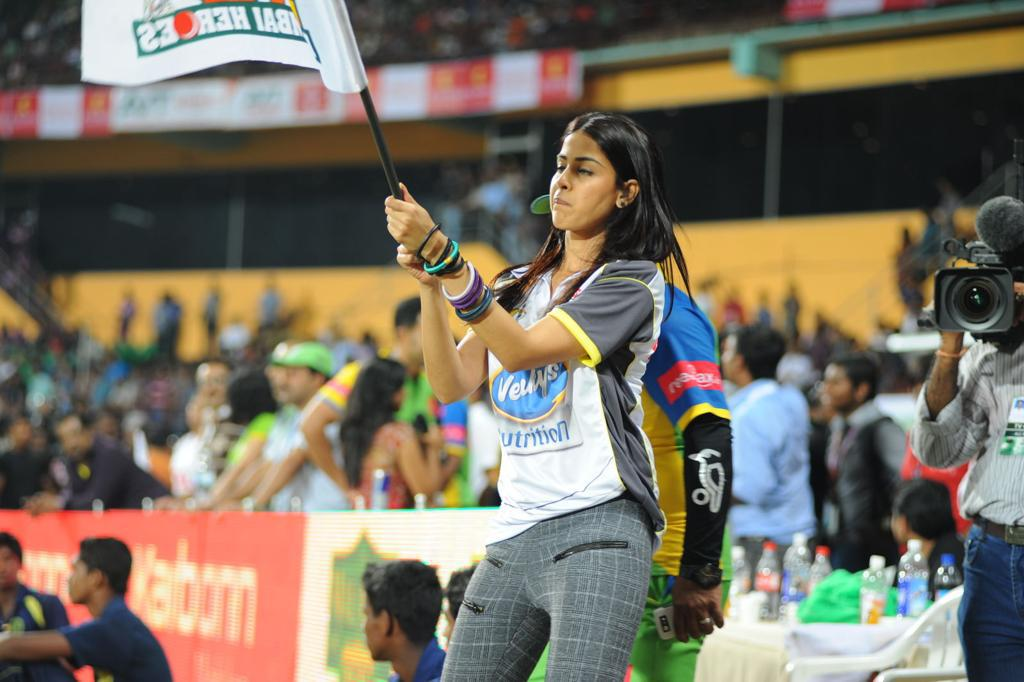face: (551, 133, 618, 230), (362, 590, 393, 661), (820, 363, 856, 414), (442, 593, 473, 652), (274, 366, 313, 404), (69, 554, 93, 603), (198, 370, 228, 406), (722, 337, 747, 380), (60, 422, 89, 458), (1, 546, 19, 586)
